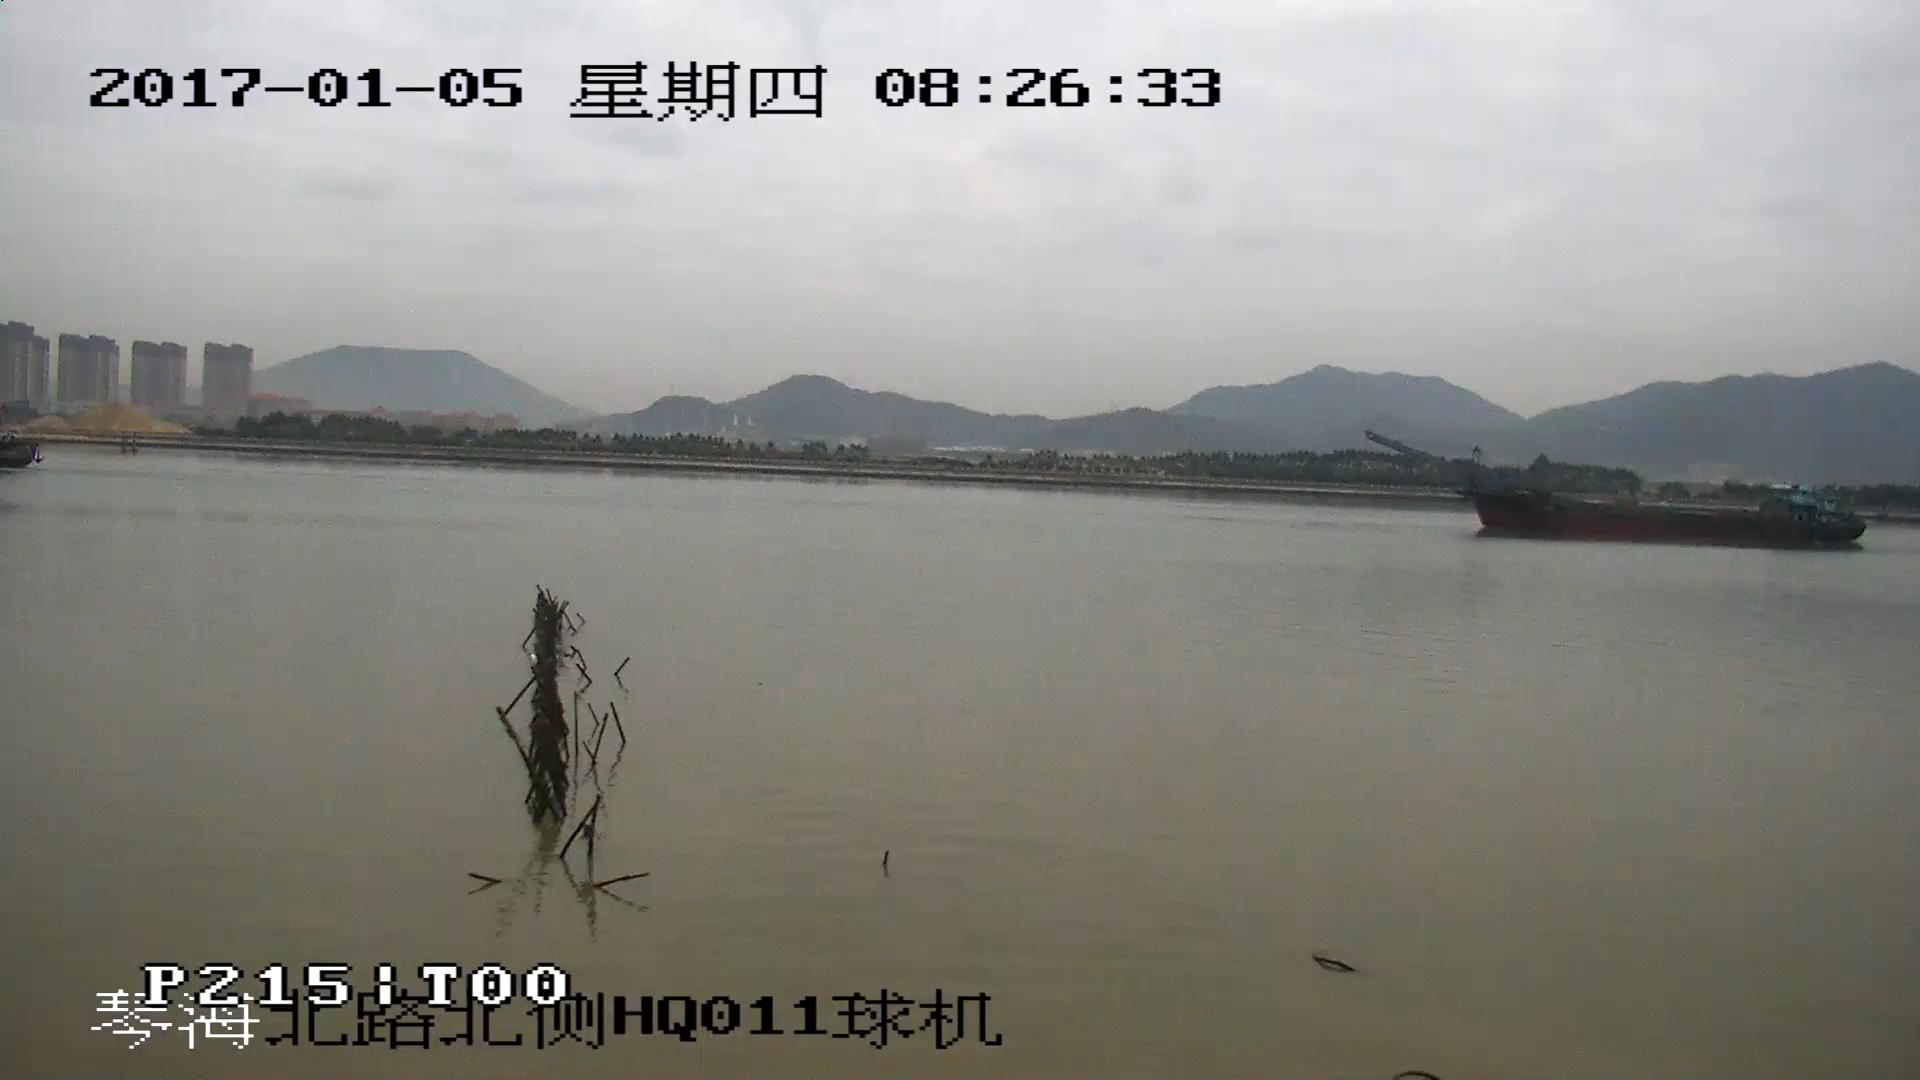bulk cargo carrier: (1366, 432, 1870, 542)
